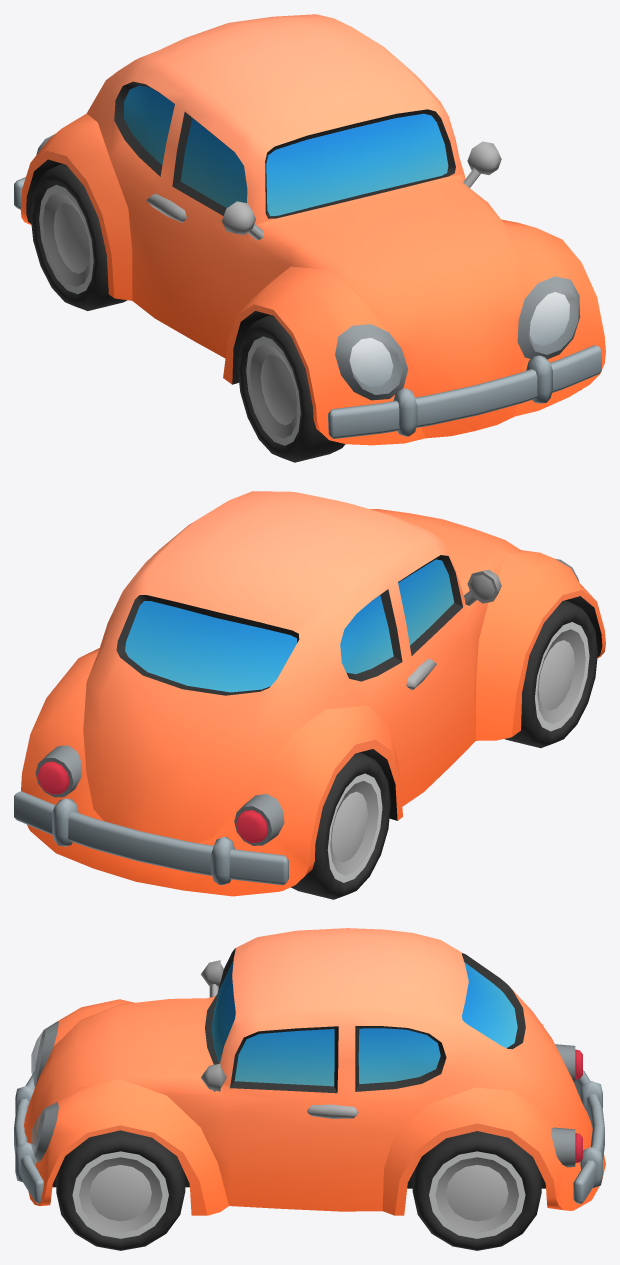
File: Car_19.glb
3 renders of one model, top to bottom at view 1: azimuth 30°, elevation 25°; view 2: azimuth 150°, elevation 25°; view 3: azimuth 270°, elevation 25°, orthographic. The views are drawn at different scales.
Parts seen in each view (by area): view 1: Car_19, Car_19_Wheel_Front_Right, Car_19_Wheel_Rear_Right; view 2: Car_19, Car_19_Wheel_Rear_Right, Car_19_Wheel_Front_Right; view 3: Car_19, Car_19_Wheel_Front_Left, Car_19_Wheel_Rear_Left.
Boxes of the visible parts, <box> form: Car_19: <box>14,14,605,445</box>; Car_19_Wheel_Front_Right: <box>237,315,345,462</box>; Car_19_Wheel_Rear_Right: <box>30,164,126,310</box>; Car_19: <box>14,491,605,896</box>; Car_19_Wheel_Rear_Right: <box>291,752,390,899</box>; Car_19_Wheel_Front_Right: <box>505,600,597,748</box>; Car_19: <box>14,928,605,1215</box>; Car_19_Wheel_Front_Left: <box>56,1130,185,1250</box>; Car_19_Wheel_Rear_Left: <box>412,1131,541,1250</box>.
Size of the model in its own units: 1.8 by 1.65 by 3.67.
7 materials, 7 textured.
